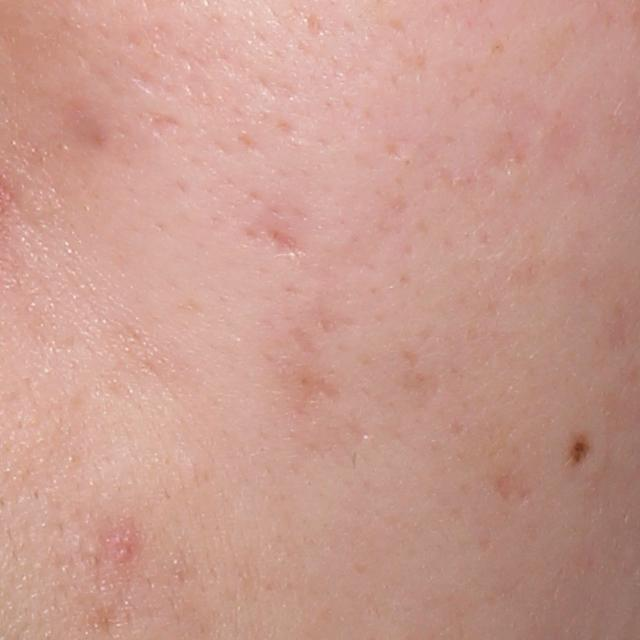atrophic_scar: (257, 225, 308, 269), (301, 369, 338, 409), (289, 324, 320, 355), (148, 112, 175, 135)
nevus: (571, 435, 591, 463)
papule: (105, 531, 137, 566)
